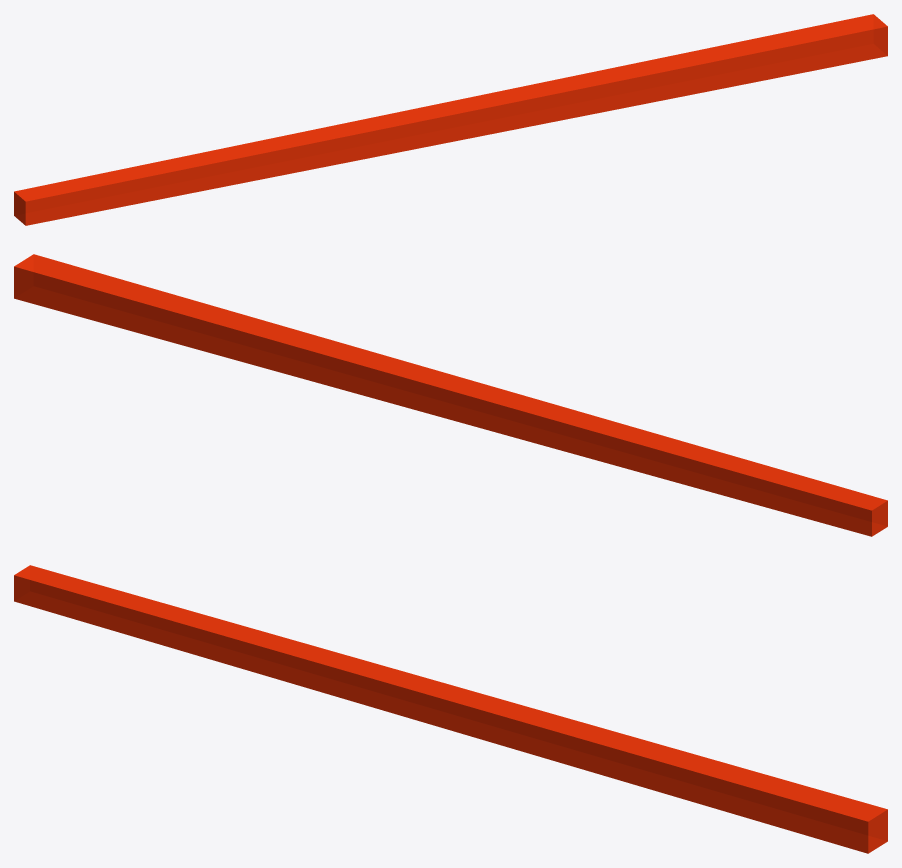
Rendered from Event_421278790_EErechit_44.fbx.
3 renders of one model, top to bottom at view 1: azimuth 30°, elevation 25°; view 2: azimuth 150°, elevation 25°; view 3: azimuth 330°, elevation 25°, orthographic. The views are drawn at different scales.
Visible parts, largest first — view 1: Model; view 2: Model; view 3: Model.
Part boxes in pixels (box(x1,y1,x2,y2)): Model: box(14, 14, 887, 225); Model: box(14, 254, 887, 536); Model: box(14, 565, 887, 853).
Size of the model in its own units: 2.6 by 0.089 by 0.268.
